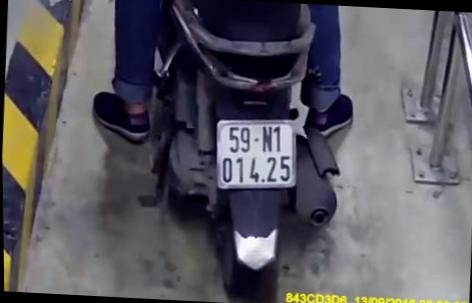LP: (213, 117, 298, 192)
